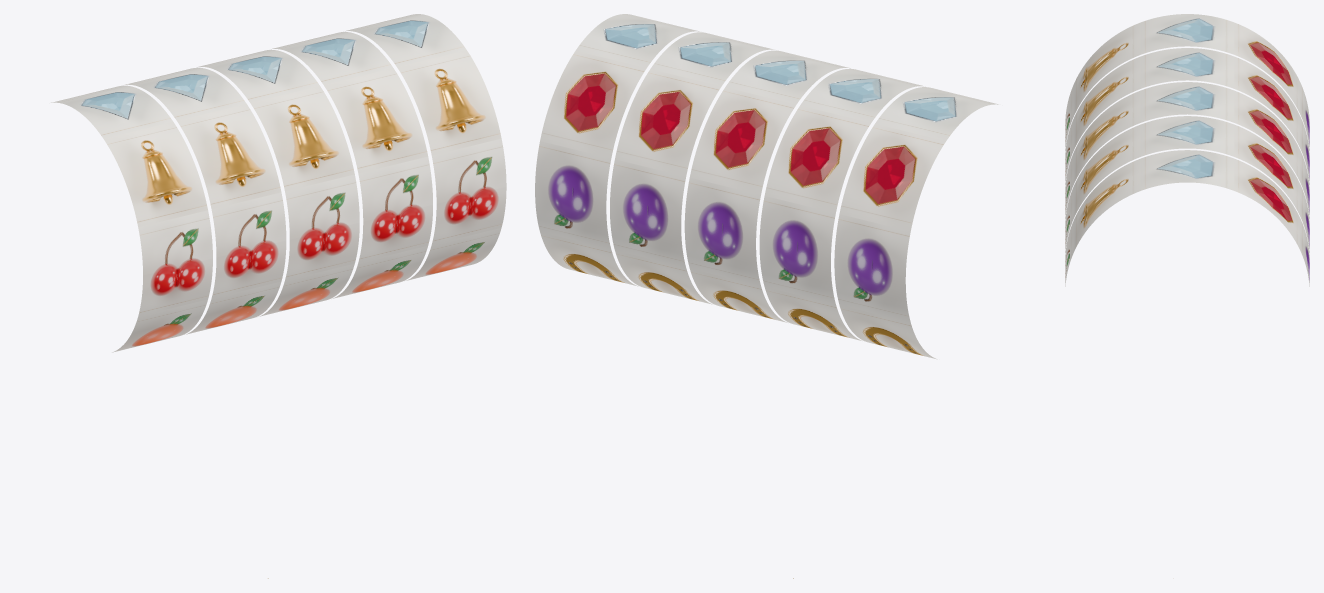
The model's file is fullscreen_palace_atrium.glb.
3 views of the same model, side by side, from view 1: azimuth 30°, elevation 25°; view 2: azimuth 150°, elevation 25°; view 3: azimuth 270°, elevation 25° (orthographic). The views are drawn at different scales.
Parts seen in each view (by area): view 1: Printed reel 4, Printed reel 2, Printed reel 0, Printed reel 1, Printed reel 3; view 2: Printed reel 2, Printed reel 1, Printed reel 4, Printed reel 0, Printed reel 3; view 3: Printed reel 0, Printed reel 1, Printed reel 2, Printed reel 4, Printed reel 3.
Boxes of the visible parts, left/top/right/bottom form: Printed reel 4: left=343, top=14, right=506, bottom=280; Printed reel 2: left=197, top=49, right=359, bottom=316; Printed reel 0: left=51, top=85, right=212, bottom=352; Printed reel 1: left=125, top=67, right=286, bottom=334; Printed reel 3: left=271, top=32, right=432, bottom=298; Printed reel 2: left=684, top=50, right=850, bottom=322; Printed reel 1: left=759, top=68, right=925, bottom=340; Printed reel 4: left=535, top=14, right=699, bottom=286; Printed reel 0: left=834, top=87, right=998, bottom=359; Printed reel 3: left=610, top=32, right=774, bottom=304; Printed reel 0: left=1065, top=14, right=1309, bottom=150; Printed reel 1: left=1065, top=48, right=1309, bottom=184; Printed reel 2: left=1065, top=82, right=1309, bottom=218; Printed reel 4: left=1065, top=150, right=1309, bottom=286; Printed reel 3: left=1065, top=116, right=1309, bottom=252.
Size of the model in its own units: 1.11 by 1.48 by 0.68.
Materials: 2 (1 with a texture image).
